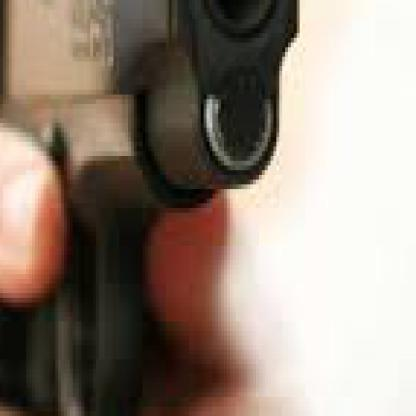gun: (0, 0, 315, 412)
